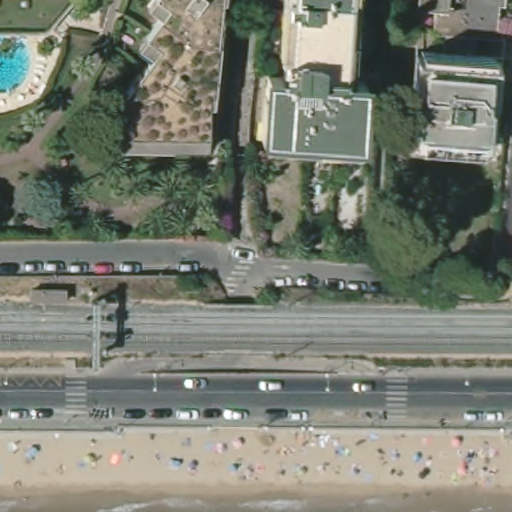pool: (1, 37, 38, 95)
